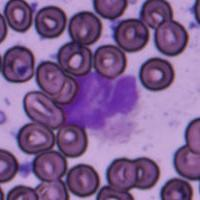D: (62, 70, 143, 142)
